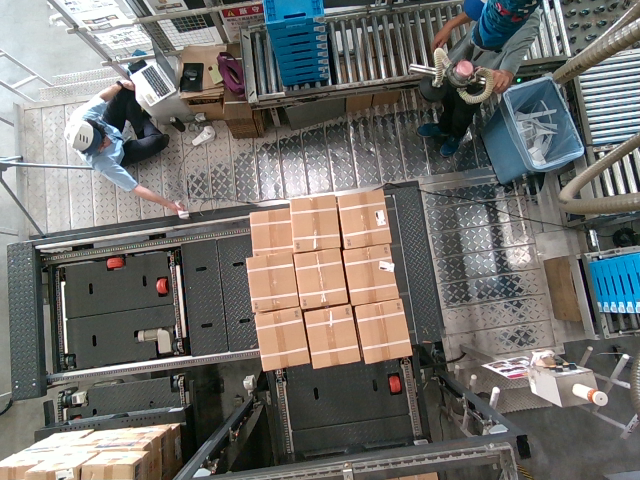box: (352, 300, 408, 361), (305, 307, 355, 368), (255, 307, 305, 368), (287, 195, 337, 251), (338, 191, 388, 247), (345, 247, 395, 303), (293, 249, 343, 305), (247, 253, 297, 309)
